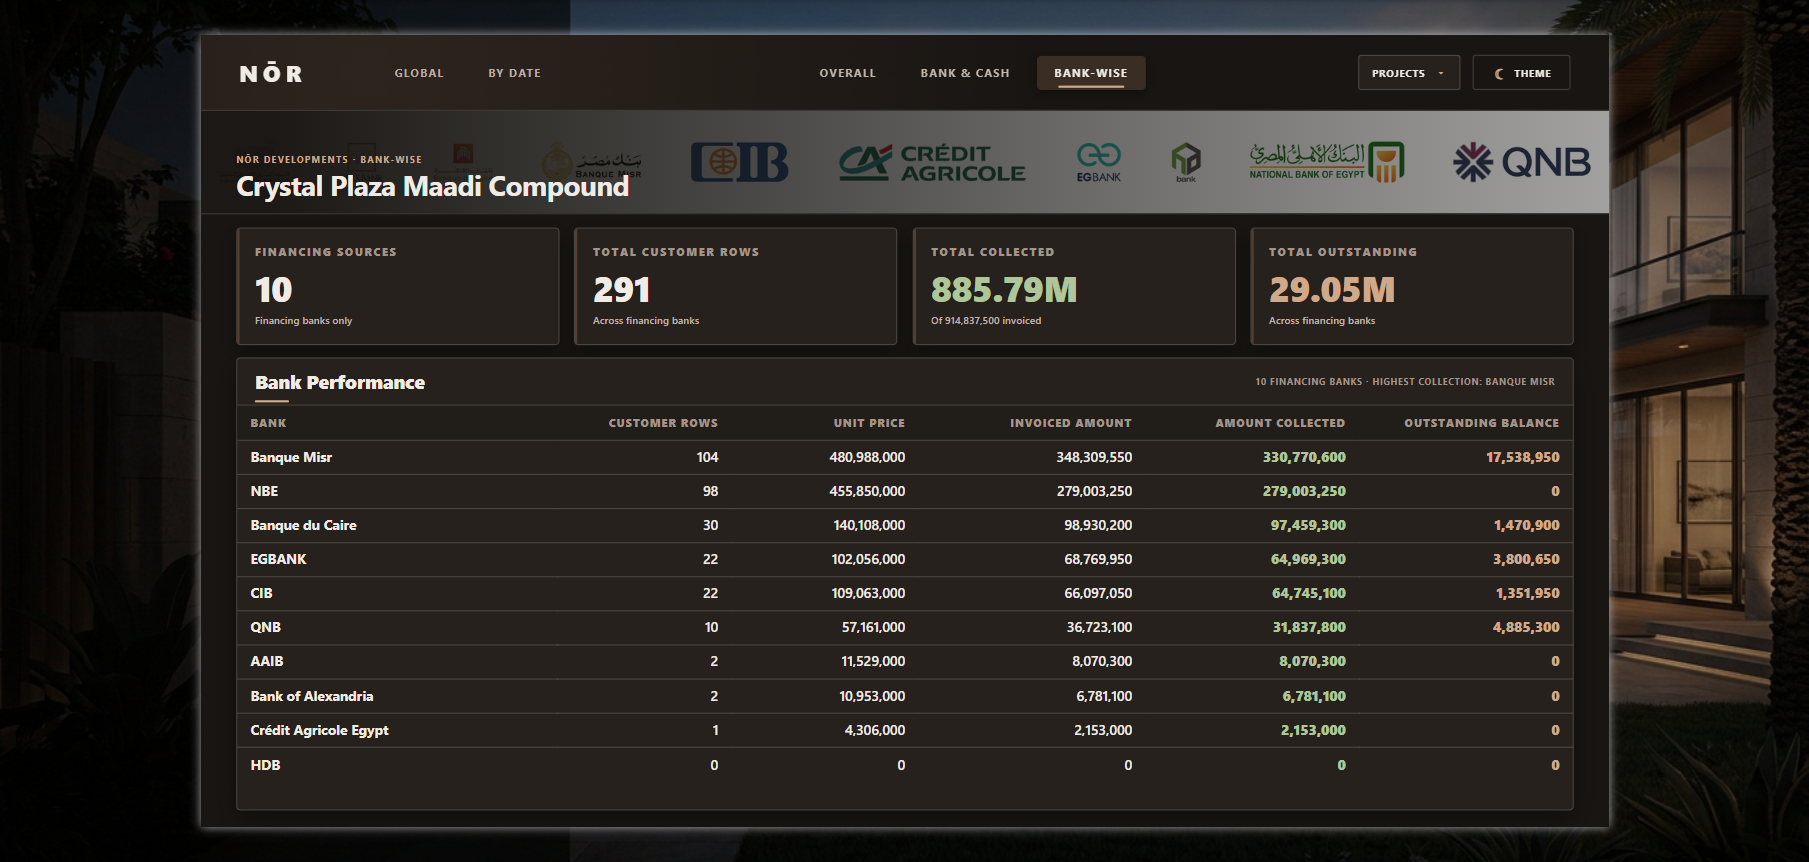

The page's visual inventory and layout, read from the dashboard file:
{"tool":"powerbi","page":{"name":"Crystal Plaza Maadi","canvas":[1280,720],"ordinal":3},"visuals":[{"type":"htmlContent443BE3AD55E043BF878BED274D3A6855","fields":{"content":["HTML Visuals.HTML_CrystalPlaza_OnePage"]},"box":[0,0,1280,720],"z":0}]}

Visuals, with their boxes on the page's 1280x720 design canvas (x1, y1, x2, y2). These are canvas units, not pixel positions in the 1809x862 screenshot, which may show the page scaled, cropped or inside an application window:
htmlContent443BE3AD55E043BF878BED274D3A6855 - HTML Visuals.HTML_CrystalPlaza_OnePage: pyautogui.locateOnScreen(0, 0, 1280, 720)
